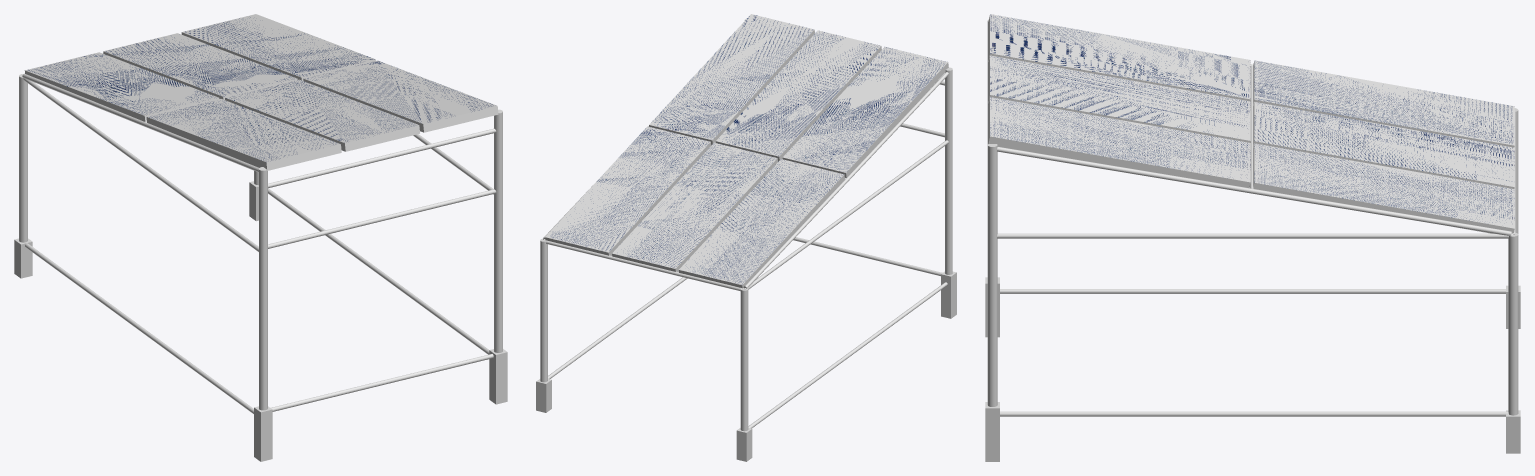
File: garage.glb
The picture shows the model from 3 angles, left to right: view 1: azimuth 30°, elevation 25°; view 2: azimuth 150°, elevation 25°; view 3: azimuth 270°, elevation 25°; orthographic projection. The views are drawn at different scales.
Visible parts, largest first — view 1: panel.005, panel.004, panel, panel.001, panel.002, panel.003, Cube.008, Cube.013, Cube.010, Cylinder.009, Cylinder.013, Cylinder.002 (+4 smaller); view 2: panel.005, panel.003, panel.002, panel.001, panel, panel.004, Cube.008, Cube.010, Cube.012, Cylinder.015, Cylinder.009, Cylinder.013 (+3 smaller); view 3: panel.004, panel.003, panel.005, panel, panel.001, panel.002, Cube.013, Cylinder.007, Cylinder.002, Cylinder.003, Cube.012, Cylinder.013 (+2 smaller).
Part boxes in pixels (bbox=[...]): panel.005: bbox=[146, 99, 341, 170]; panel.004: bbox=[303, 60, 498, 132]; panel: bbox=[225, 79, 419, 151]; panel.001: bbox=[24, 52, 219, 121]; panel.002: bbox=[103, 33, 297, 99]; panel.003: bbox=[181, 14, 375, 80]; Cube.008: bbox=[254, 167, 272, 461]; Cube.013: bbox=[489, 109, 507, 404]; Cube.010: bbox=[14, 74, 32, 278]; Cylinder.009: bbox=[23, 78, 258, 251]; Cylinder.013: bbox=[25, 243, 253, 413]; Cylinder.002: bbox=[268, 188, 489, 354]; panel.005: bbox=[782, 46, 948, 177]; panel.003: bbox=[545, 126, 711, 255]; panel.002: bbox=[612, 142, 777, 272]; panel.001: bbox=[679, 159, 844, 288]; panel: bbox=[715, 30, 881, 161]; panel.004: bbox=[649, 14, 814, 144]; Cube.008: bbox=[941, 67, 956, 318]; Cube.010: bbox=[736, 288, 752, 461]; Cube.012: bbox=[536, 238, 551, 412]; Cylinder.015: bbox=[743, 72, 948, 288]; Cylinder.009: bbox=[744, 140, 948, 289]; Cylinder.013: bbox=[748, 282, 947, 428]; panel.004: bbox=[988, 97, 1250, 187]; panel.003: bbox=[1253, 143, 1514, 233]; panel.005: bbox=[988, 14, 1250, 101]; panel: bbox=[988, 55, 1250, 142]; panel.001: bbox=[1253, 60, 1514, 147]; panel.002: bbox=[1253, 102, 1514, 188]; Cube.013: bbox=[985, 144, 999, 461]; Cylinder.007: bbox=[997, 233, 1513, 238]; Cylinder.002: bbox=[1000, 411, 1508, 416]; Cylinder.003: bbox=[997, 147, 1511, 235]; Cube.012: bbox=[1506, 232, 1520, 453]; Cylinder.013: bbox=[1000, 289, 1505, 293].
Size of the model in its own units: 3.15 by 3.61 by 5.45.
12 materials, 6 textured.
